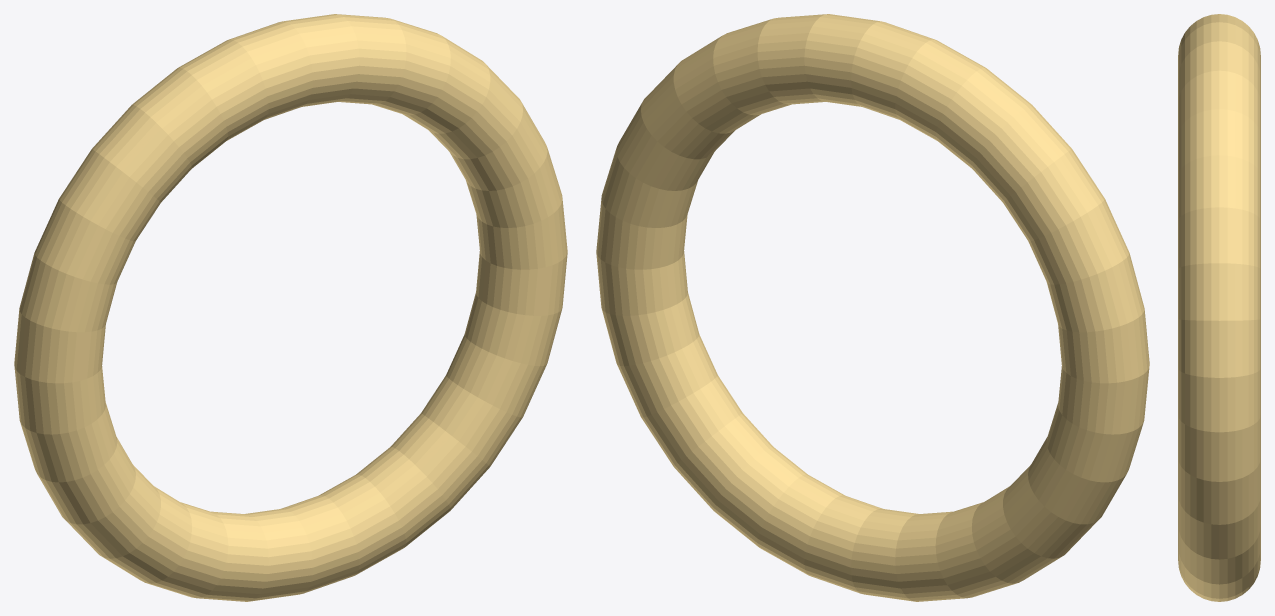
Rendered from ring_band_gold.glb.
3 renders of one model, left to right at view 1: azimuth 30°, elevation 25°; view 2: azimuth 150°, elevation 25°; view 3: azimuth 270°, elevation 25°, orthographic. The views are drawn at different scales.
Visible parts, largest first — view 1: world; view 2: world; view 3: world.
Part boxes in pixels (left/top/right/bottom): world: left=14, top=14, right=567, bottom=601; world: left=596, top=14, right=1149, bottom=601; world: left=1178, top=14, right=1260, bottom=601.
Bounding box in the file's own units: 0.0256 × 0.0256 × 0.0036.
